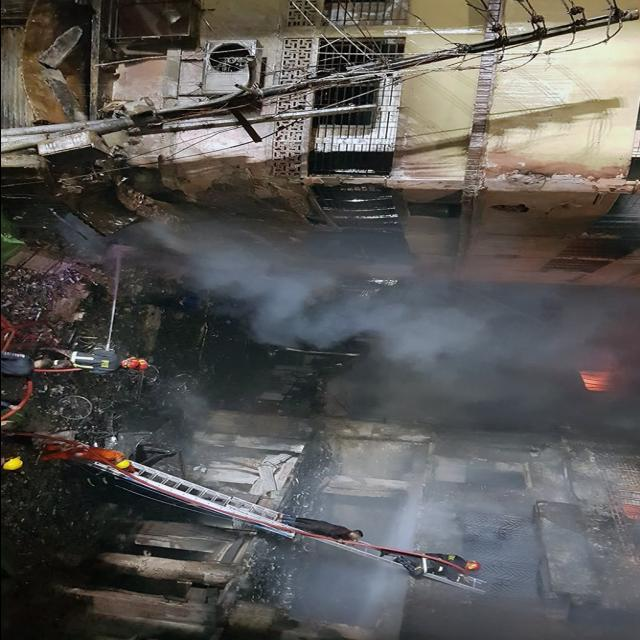Fire: (568, 362, 608, 402)
